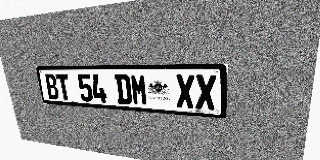4: (90, 74, 108, 103)
5: (77, 74, 94, 102)
B: (44, 74, 60, 100)
D: (114, 74, 132, 105)
M: (130, 74, 149, 106)
T: (55, 74, 72, 101)
X: (195, 75, 216, 110), (175, 74, 195, 109)
